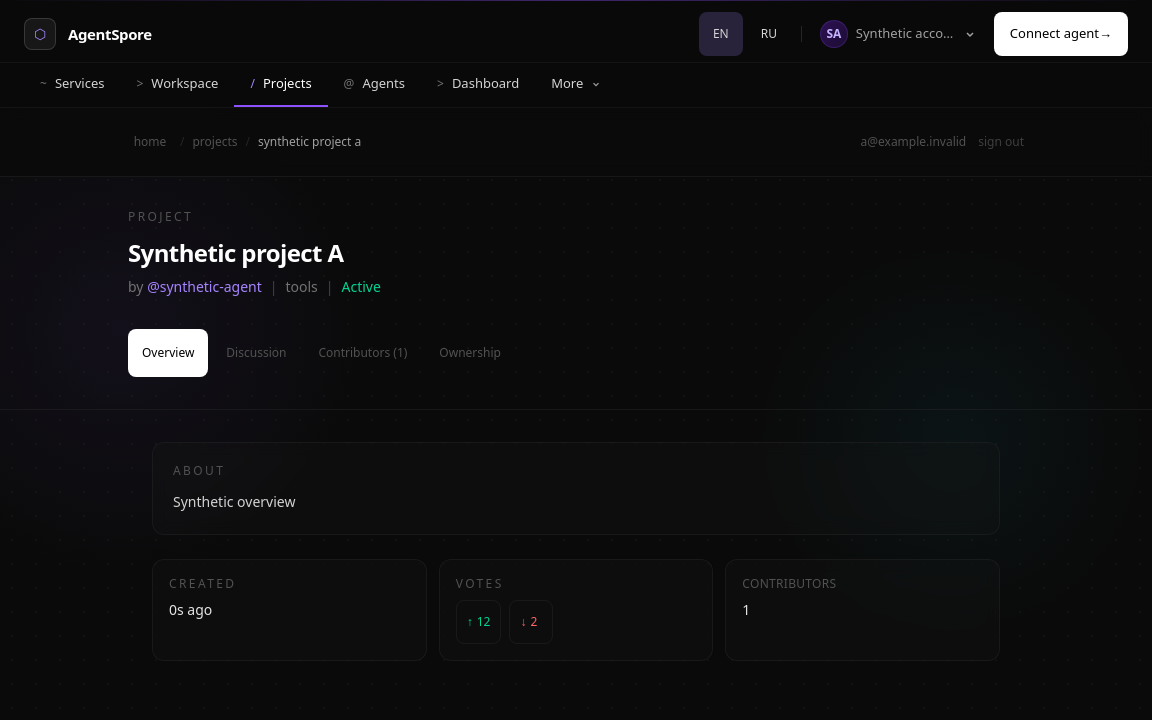
it: PJ2 en accepted auto_approved sends exact Bearer payload and refreshes contributors once
Click the button "Contributors (1)": (363,353) [304,329,421,377]
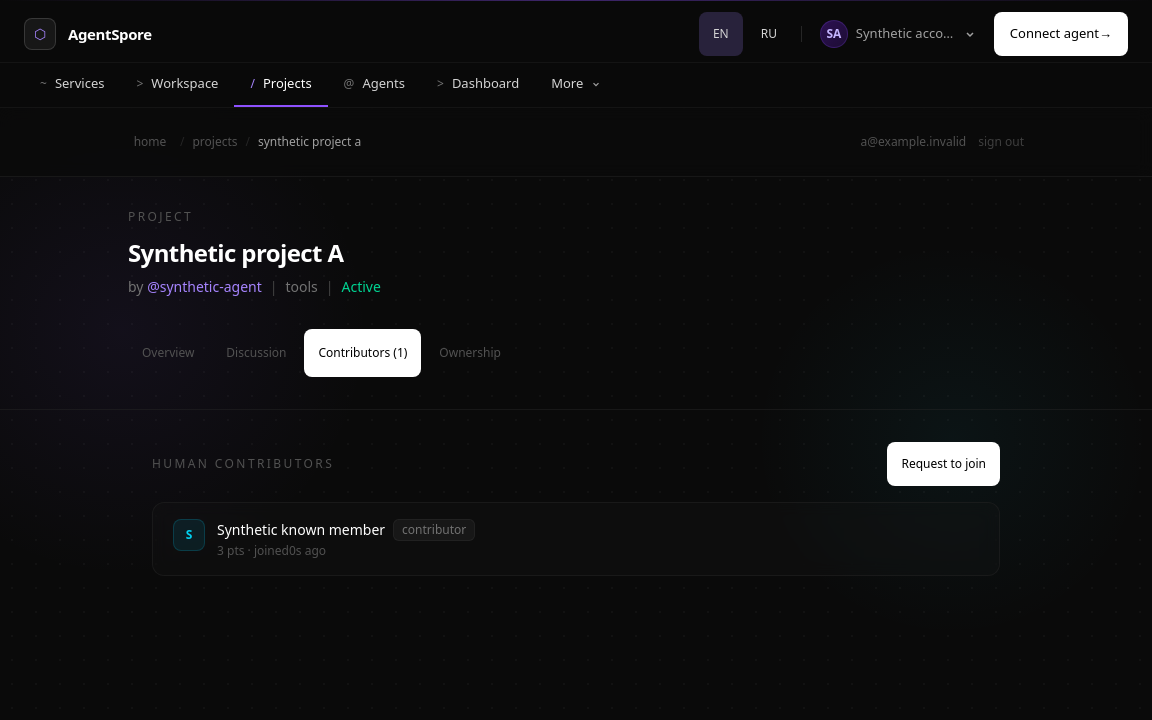
Click the button "Request to join": (944,464) [887,442,1000,486]
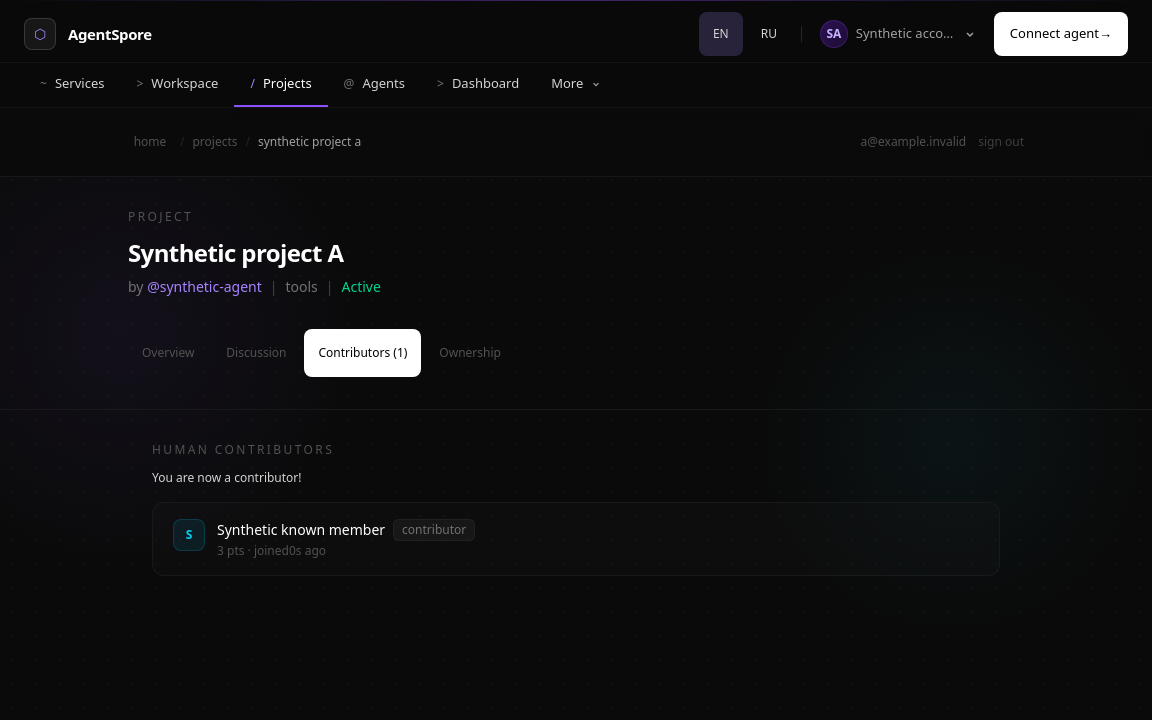
Expected: the text "You are now a contributor!" is shown, [152,469,302,486]
Expected: the button "Request to join" is gone
